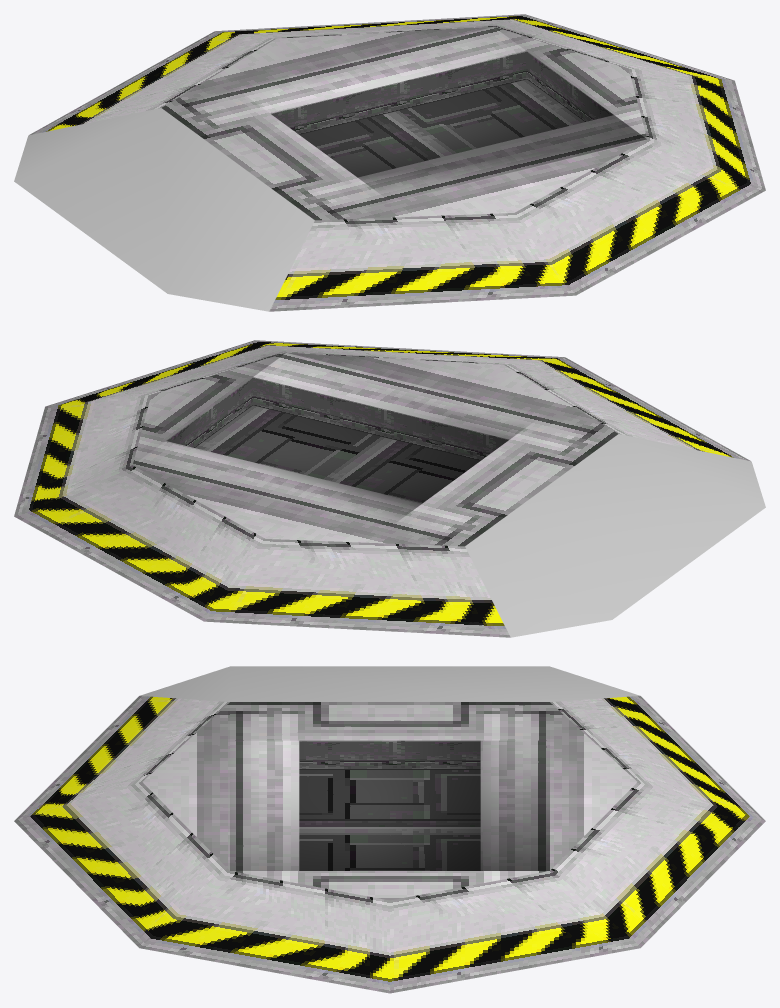
File: RocketPlatform.obj
3 views of the same model, one above another, from view 1: azimuth 30°, elevation 25°; view 2: azimuth 150°, elevation 25°; view 3: azimuth 270°, elevation 25° (orthographic). The views are drawn at different scales.
Bounding box in the file's own units: 35.84 × 2 × 34.82.
